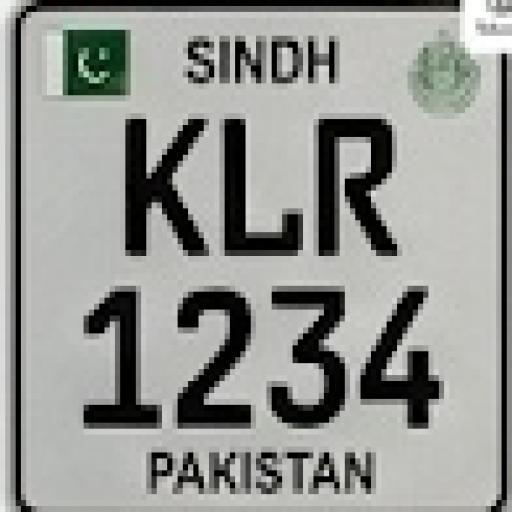1: (80, 285, 163, 436)
2: (175, 282, 258, 433)
3: (265, 283, 351, 434)
4: (358, 278, 430, 424)
K: (116, 109, 212, 255)
L: (223, 109, 302, 262)
R: (316, 114, 395, 259)
